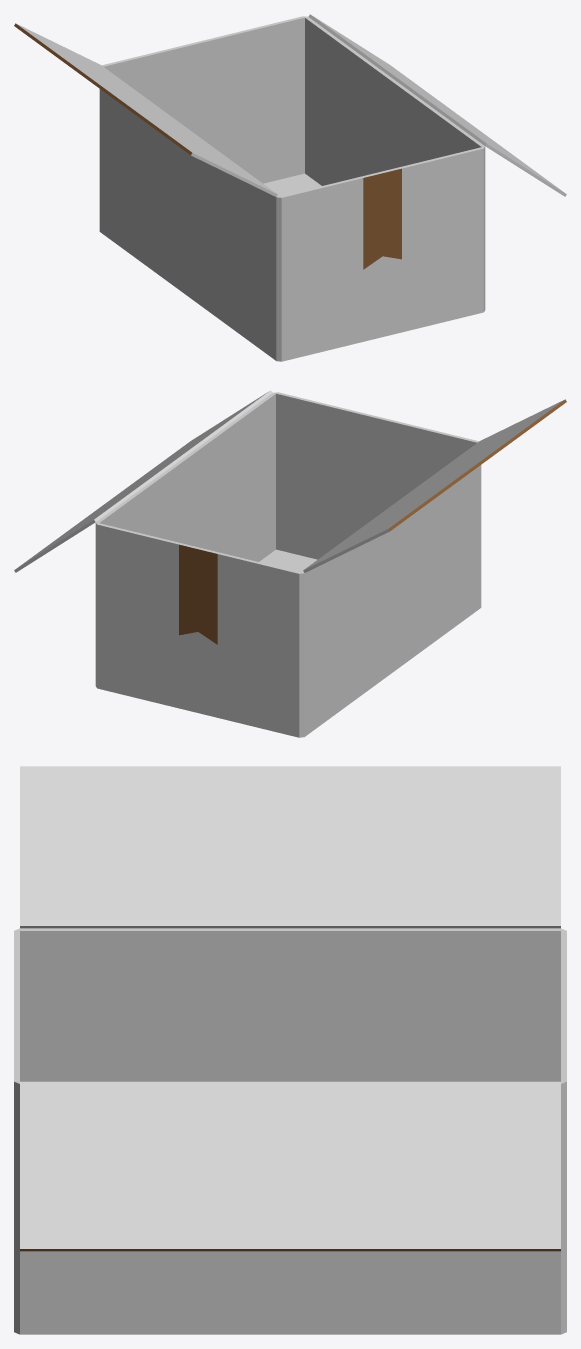
Rendered from Box open 2.fbx.
The picture shows the model from 3 angles, top to bottom: view 1: azimuth 30°, elevation 25°; view 2: azimuth 150°, elevation 25°; view 3: azimuth 270°, elevation 25°; orthographic projection. The views are drawn at different scales.
Parts seen in each view (by area): view 1: Box 1.001, Box 1.003, Box 1.002; view 2: Box 1.001, Box 1.003, Box 1.002; view 3: Box 1.001, Box 1.002, Box 1.003.
Part boxes in pixels (bbox=[...]): Box 1.001: bbox=[99, 16, 485, 361]; Box 1.003: bbox=[14, 23, 277, 196]; Box 1.002: bbox=[308, 14, 566, 196]; Box 1.001: bbox=[95, 392, 481, 737]; Box 1.003: bbox=[303, 399, 566, 572]; Box 1.002: bbox=[14, 390, 272, 572]; Box 1.001: bbox=[14, 928, 566, 1334]; Box 1.002: bbox=[20, 1082, 560, 1251]; Box 1.003: bbox=[20, 766, 560, 928].
Size of the model in its own units: 37.24 by 21.66 by 31.02.
